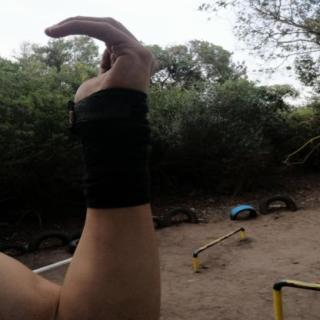HAA: (31, 8, 169, 119)
